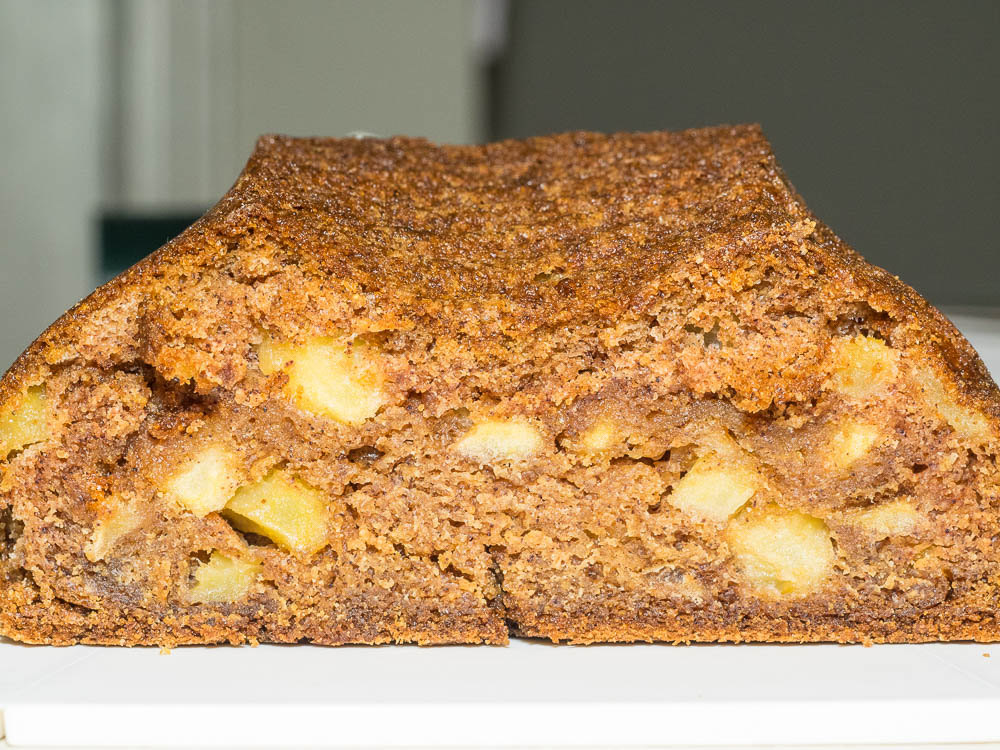slice of bread: (77, 220, 957, 625)
